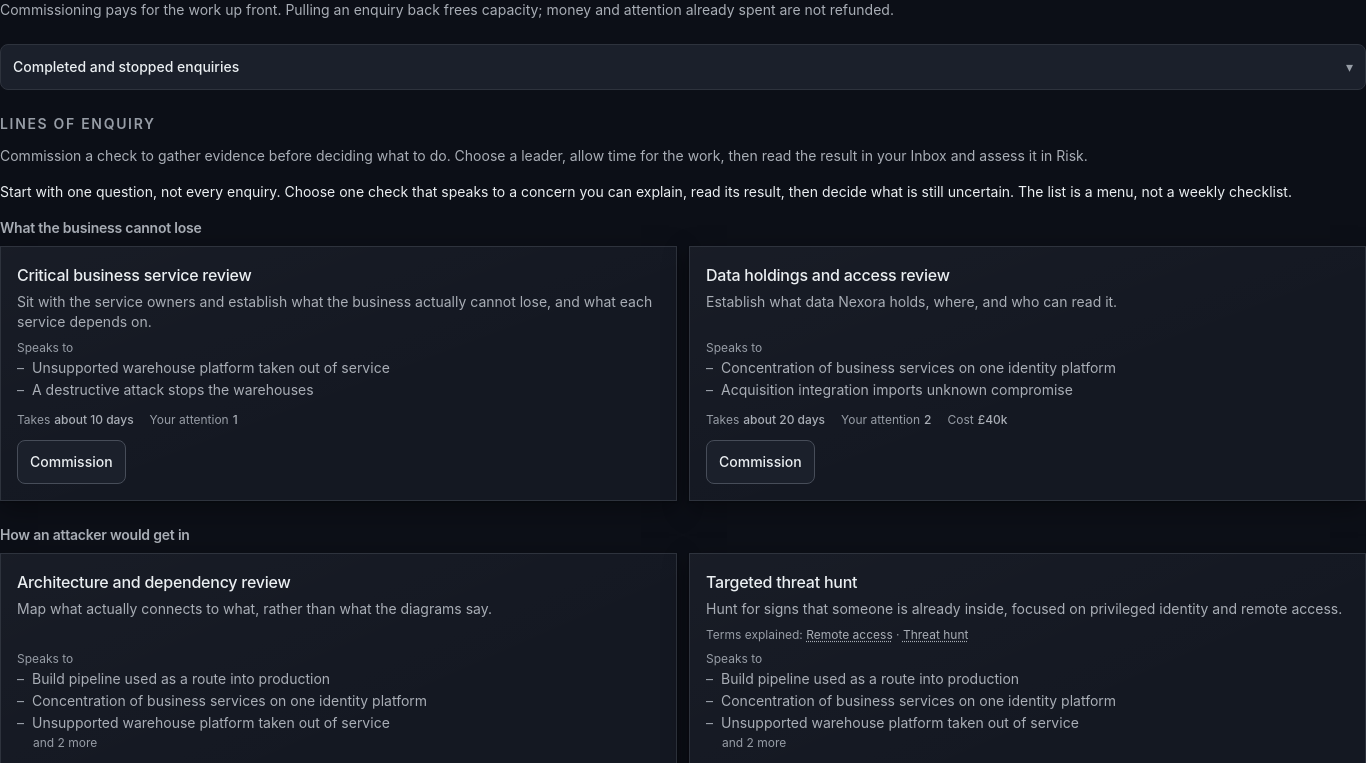
Test case: choosing who leads an enquiry › offers the leader whose work would come back best, and claims nothing about area
Click the button with aria-label "Commission: ".
click(71, 462)  # box [17,440,126,484]
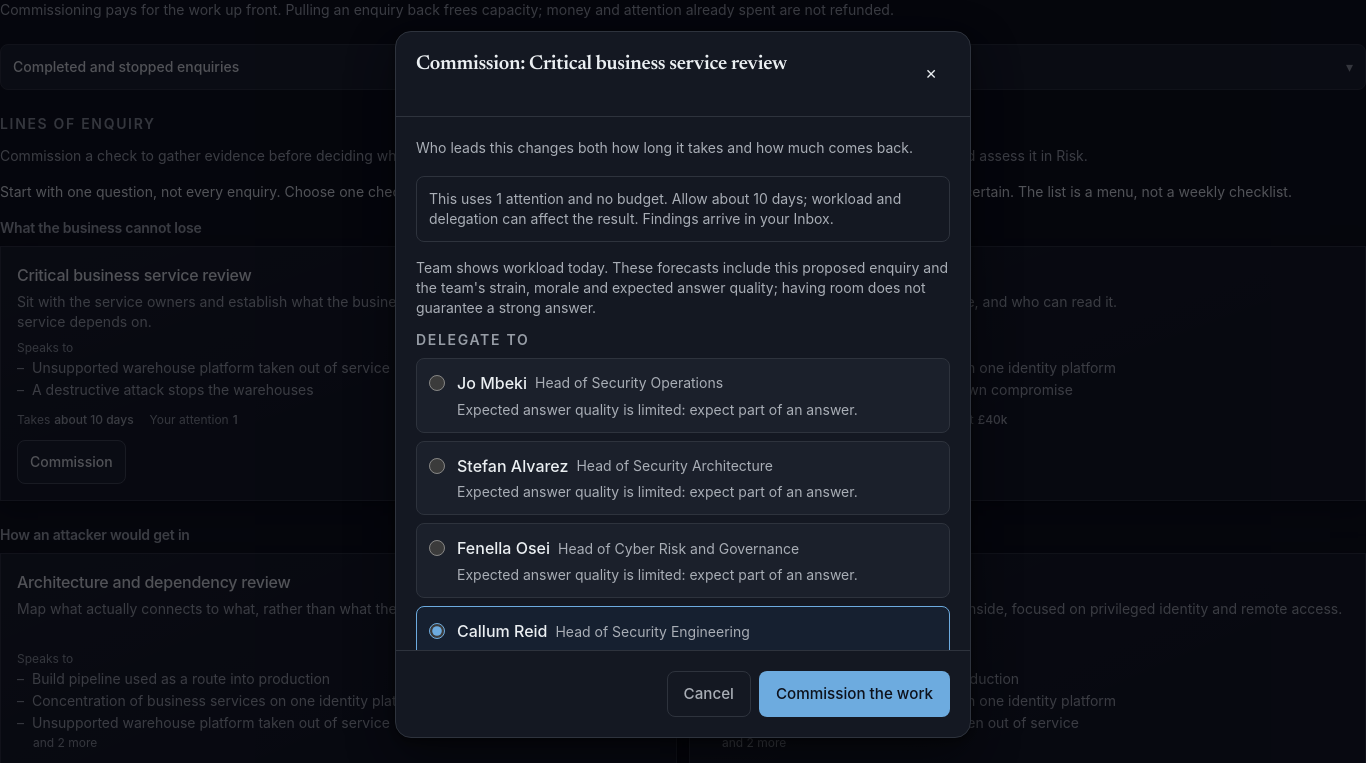
Expected: the radio button labelled "Callum Reid Head of Security Engineering Has room for this." holds "lead-eng", [429,623,445,639]
